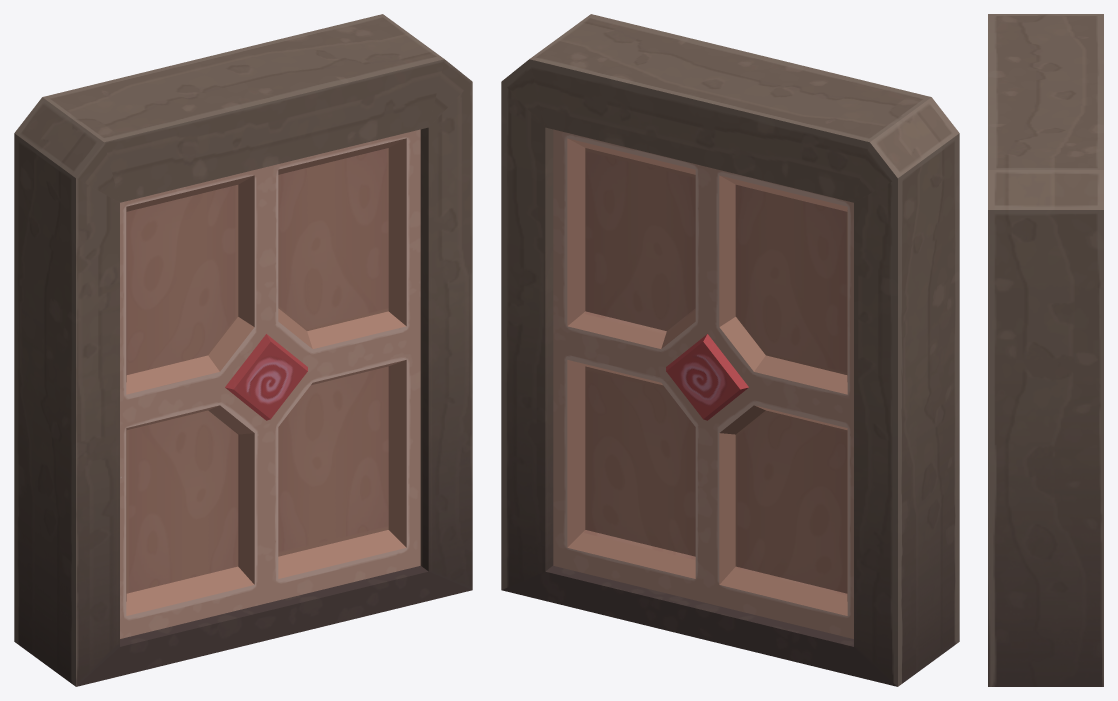
File: Puerta_camara_acorazada_01.fbx
The picture shows the model from 3 angles, left to right: view 1: azimuth 30°, elevation 25°; view 2: azimuth 150°, elevation 25°; view 3: azimuth 270°, elevation 25°; orthographic projection. The views are drawn at different scales.
Parts seen in each view (by area): view 1: Marco_puerta_blindada, Puerta_blindada; view 2: Marco_puerta_blindada, Puerta_blindada; view 3: Marco_puerta_blindada.
Part boxes in pixels (<box>): Marco_puerta_blindada: <box>14,14,472,686</box>; Puerta_blindada: <box>120,129,420,638</box>; Marco_puerta_blindada: <box>501,14,959,686</box>; Puerta_blindada: <box>553,129,853,638</box>; Marco_puerta_blindada: <box>988,14,1103,686</box>.
Size of the model in its own units: 257 by 334 by 69.33.
